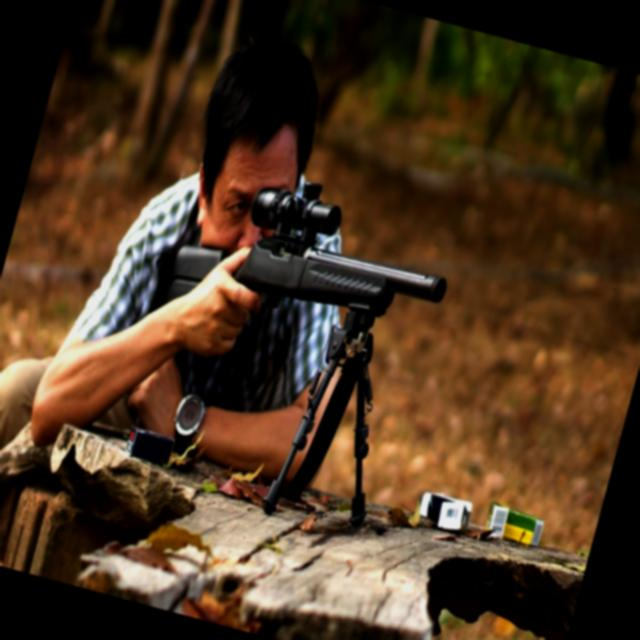rifle: (141, 155, 479, 412)
